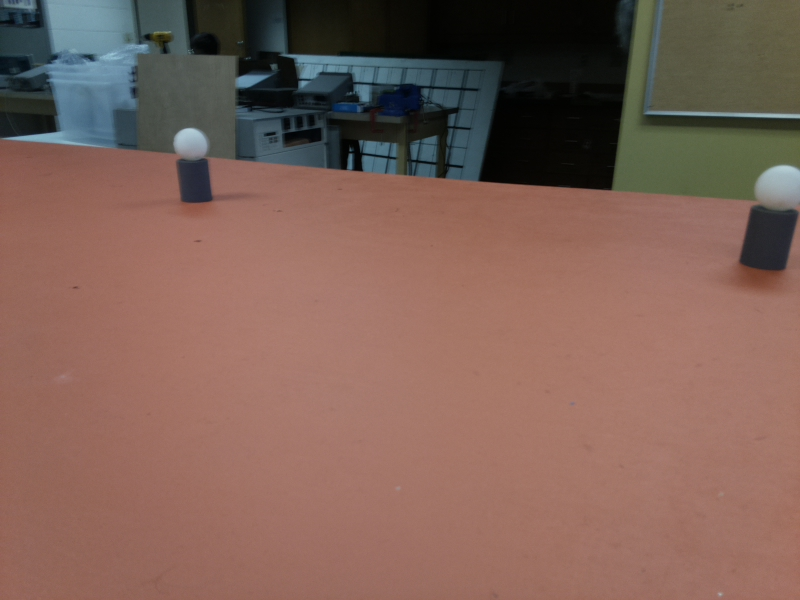obstacle: (742, 163, 798, 273), (175, 128, 213, 201)
